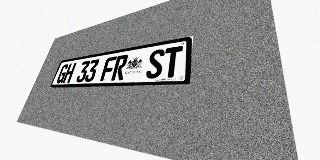3: (84, 59, 100, 82), (75, 60, 91, 82)
F: (100, 56, 117, 81)
G: (55, 64, 69, 83)
H: (62, 63, 77, 83)
R: (111, 54, 129, 81)
S: (145, 48, 165, 79)
T: (162, 46, 183, 78)
